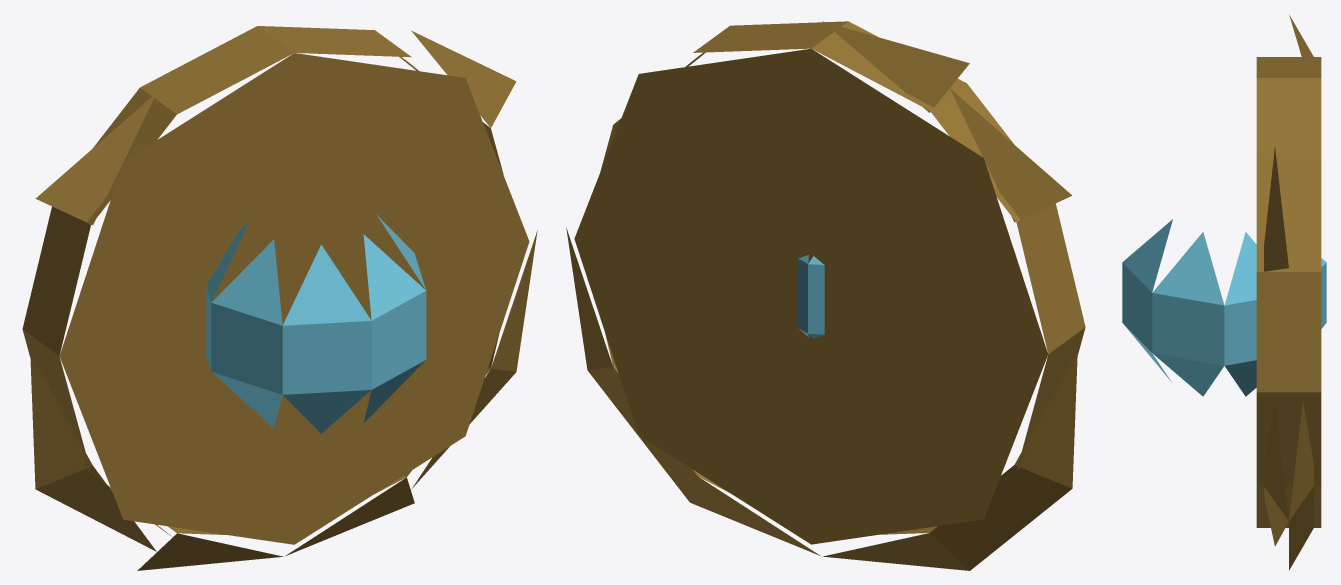
Rendered from amulet.lod.glb.
The picture shows the model from 3 angles, left to right: view 1: azimuth 30°, elevation 25°; view 2: azimuth 150°, elevation 25°; view 3: azimuth 270°, elevation 25°; orthographic projection. The views are drawn at different scales.
Visible parts, largest first — view 1: m; view 2: m; view 3: m.
Boxes of the visible parts, x1,y1,x2,y2 form: m: (22, 26, 537, 570); m: (566, 21, 1085, 570); m: (1122, 15, 1326, 570).
Bounding box in the file's own units: 0.0441 × 0.0441 × 0.0177.
